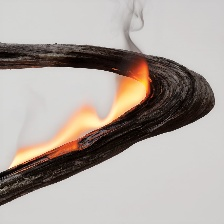fire: (10, 71, 154, 167)
